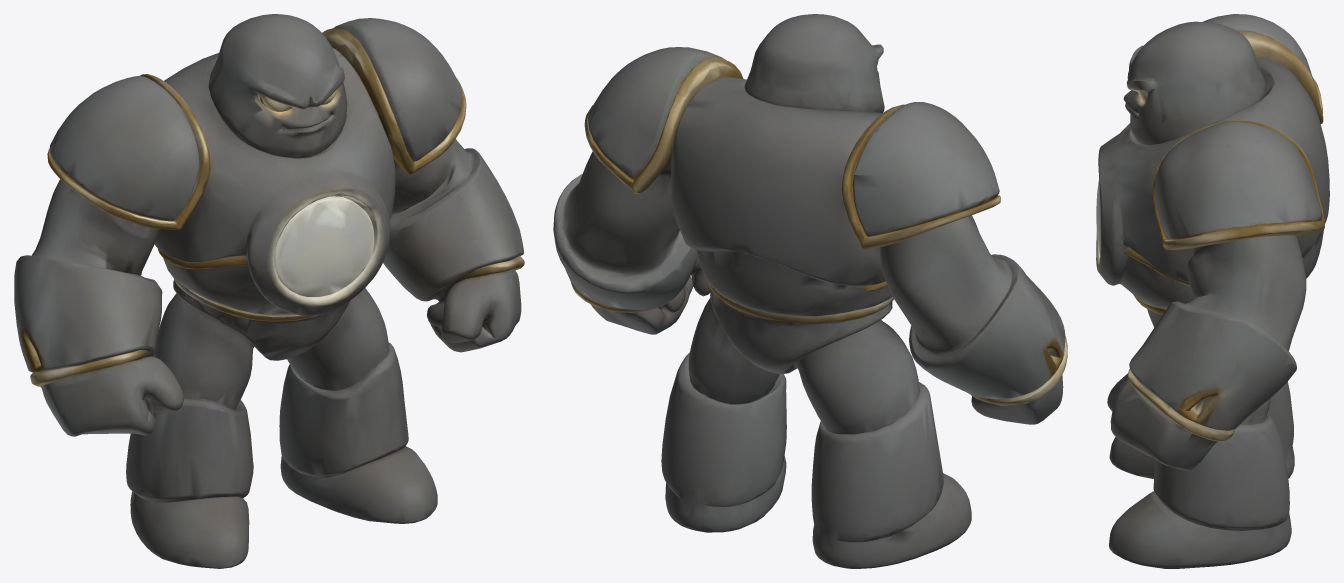
Rendered from m2ColorGuardianBoss.glb.
3 views of the same model, side by side, from view 1: azimuth 30°, elevation 25°; view 2: azimuth 150°, elevation 25°; view 3: azimuth 270°, elevation 25° (orthographic). The views are drawn at different scales.
Parts seen in each view (by area): view 1: model; view 2: model; view 3: model.
Boxes of the visible parts, left/top/right/bottom form: model: left=14, top=14, right=524, bottom=568; model: left=553, top=14, right=1067, bottom=568; model: left=1096, top=14, right=1329, bottom=568.
Bounding box in the file's own units: 1.89 × 1.84 × 0.8125.
1 material, 1 textured.
